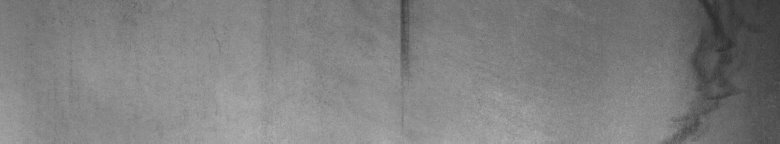hd: (396, 4, 413, 74)
